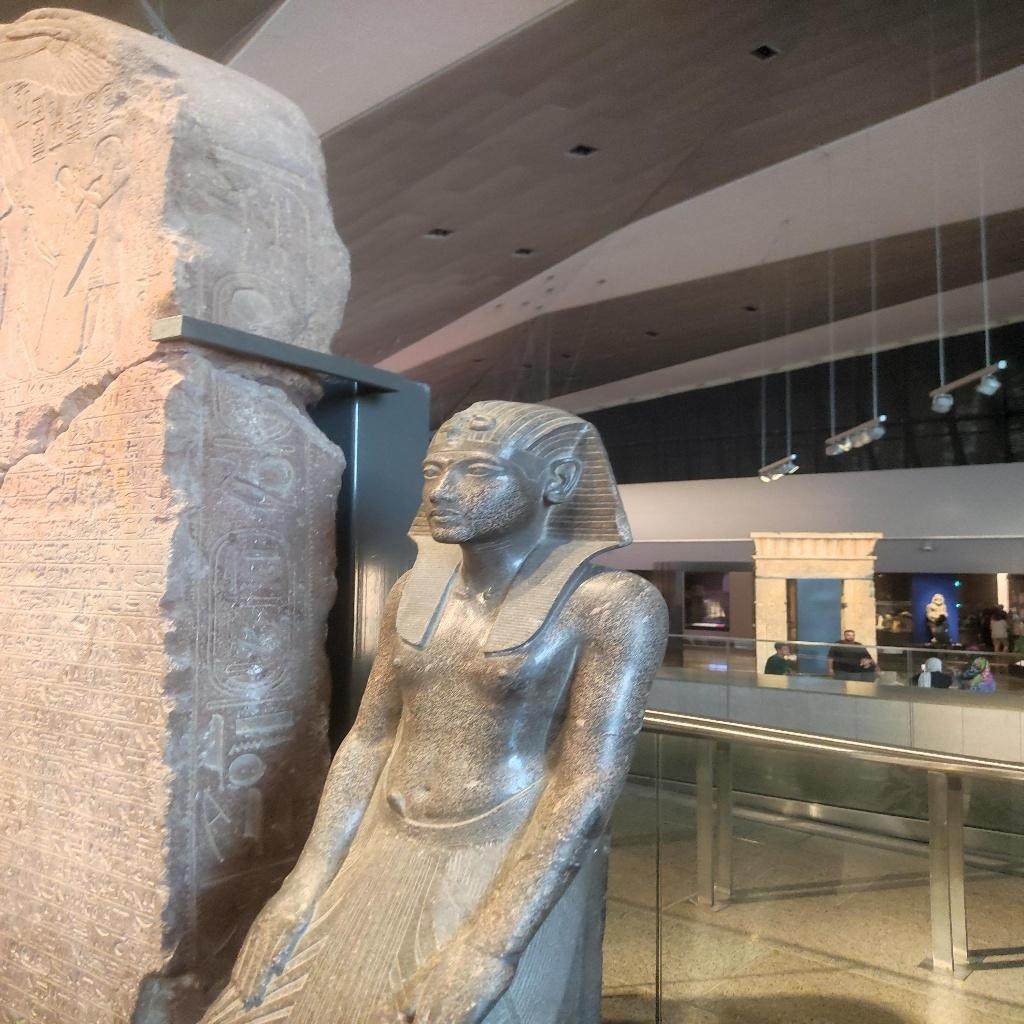Granite Statue of Tutankhamun: (194, 396, 674, 1022)
